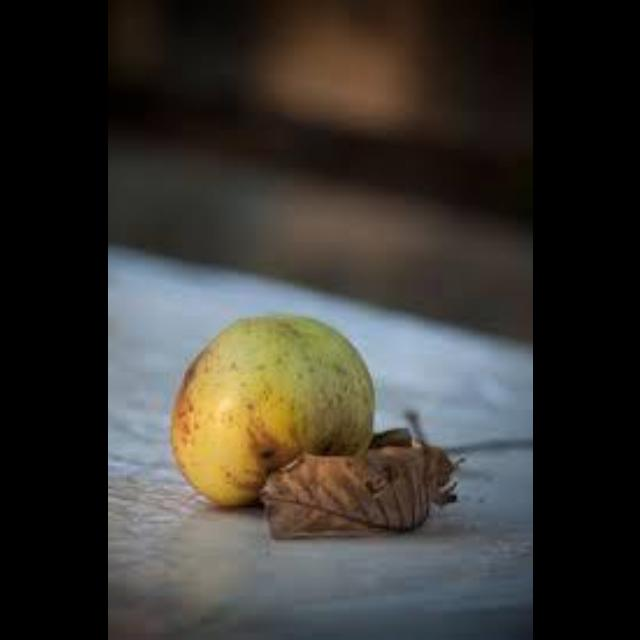apple: (170, 314, 372, 505)
